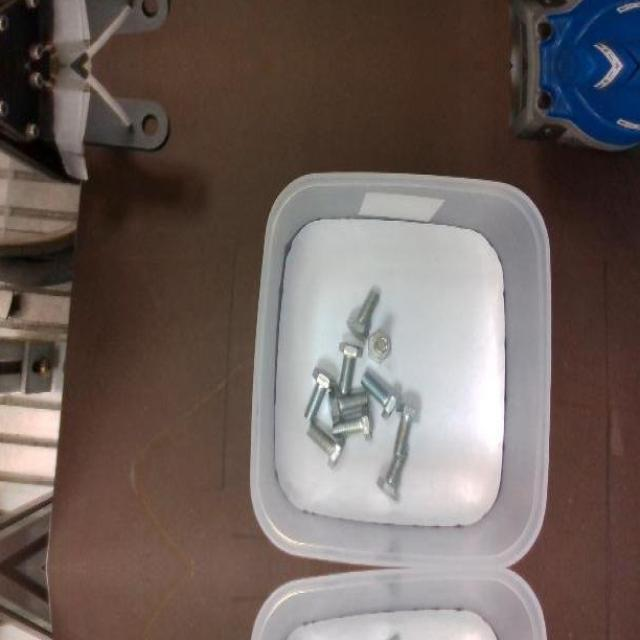screw: (360, 370, 399, 419), (304, 367, 337, 423), (345, 288, 379, 342), (307, 420, 345, 468), (375, 451, 407, 501), (392, 402, 420, 458), (332, 406, 373, 441), (327, 389, 367, 424), (338, 342, 363, 395), (368, 330, 390, 362), (375, 635, 407, 640)
